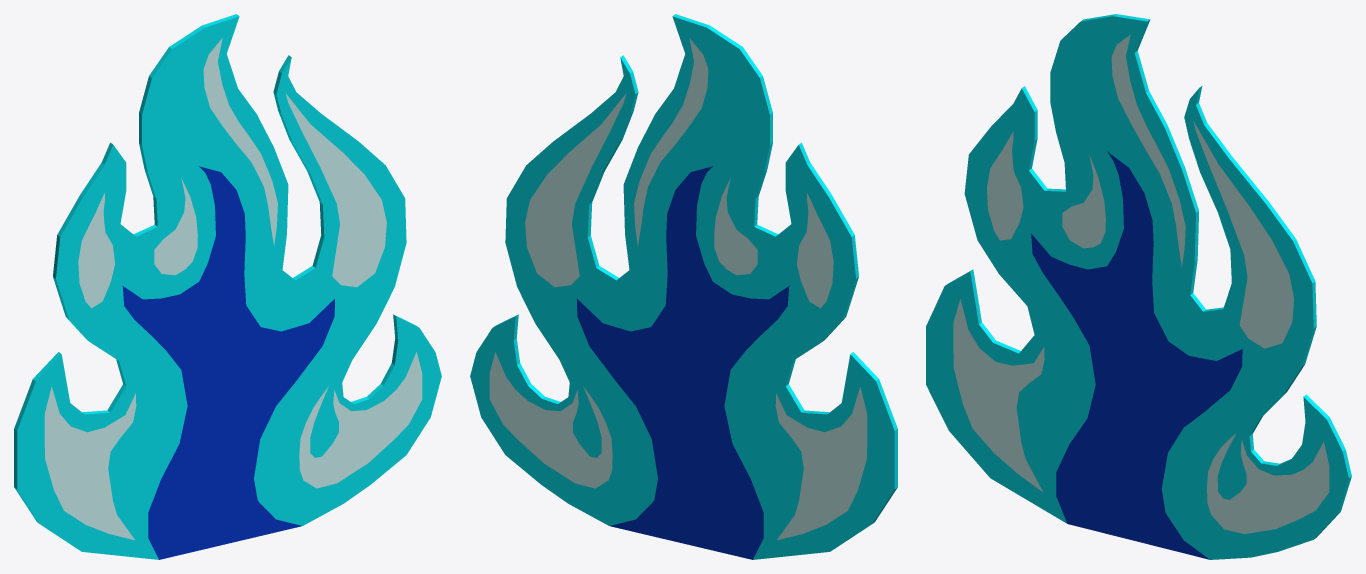
Rendered from flames_cold.fbx.
The picture shows the model from 3 angles, left to right: view 1: azimuth 30°, elevation 25°; view 2: azimuth 150°, elevation 25°; view 3: azimuth 330°, elevation 25°; orthographic projection.
Visible parts, largest first — view 1: Flame3; view 2: Flame3; view 3: Flame3.
Part boxes in pixels (x1=…): Flame3: x1=14, y1=14, x2=441, y2=559; Flame3: x1=470, y1=14, x2=897, y2=559; Flame3: x1=926, y1=14, x2=1351, y2=559.
Size of the model in its own units: 173 by 204 by 2.18.
